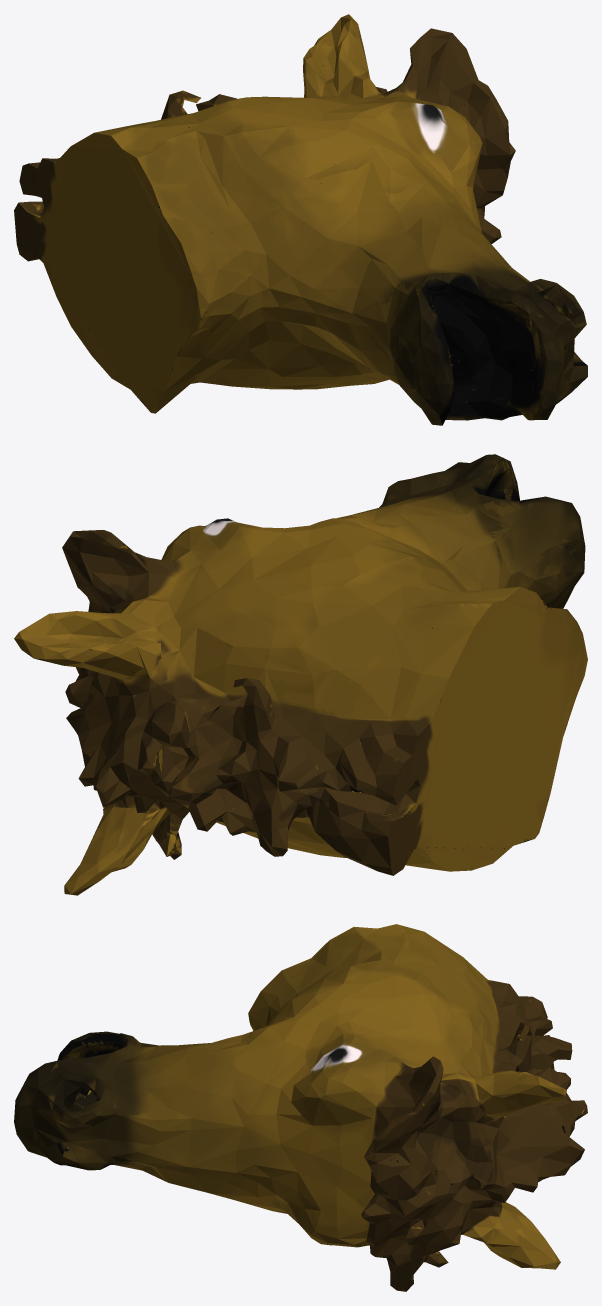
Rendered from HorseMaskFemale.fbx.
3 renders of one model, top to bottom at view 1: azimuth 30°, elevation 25°; view 2: azimuth 150°, elevation 25°; view 3: azimuth 270°, elevation 25°, orthographic. The views are drawn at different scales.
Visible parts, largest first — view 1: horse_mask; view 2: horse_mask; view 3: horse_mask.
Part boxes in pixels (x1=…): horse_mask: x1=14, y1=14, x2=587, y2=425; horse_mask: x1=14, y1=454, x2=587, y2=895; horse_mask: x1=14, y1=924, x2=587, y2=1291.
Size of the model in its own units: 0.2214 by 0.1682 by 0.3446.
